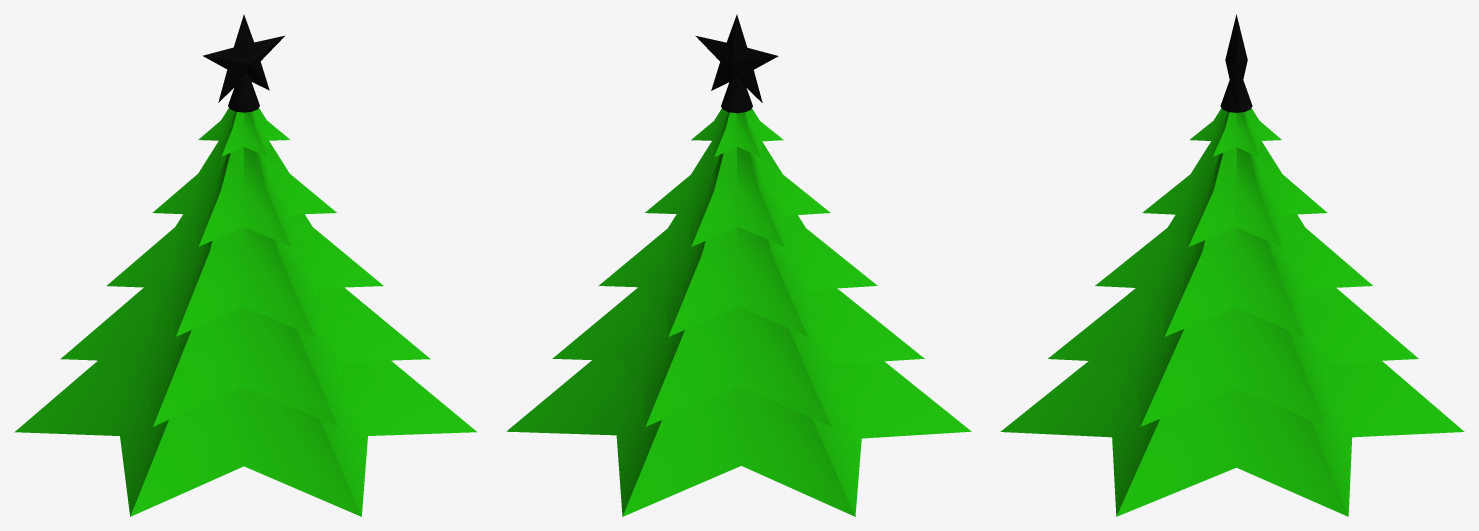
Rendered from tree.fbx.
3 views of the same model, side by side, from view 1: azimuth 30°, elevation 25°; view 2: azimuth 150°, elevation 25°; view 3: azimuth 270°, elevation 25° (orthographic).
Visible parts, largest first — view 1: Cone_0, Cone_1, Cone_2, Cone_3, Cone_4, Star, cap; view 2: Cone_0, Cone_1, Cone_2, Cone_3, Star, Cone_4, cap; view 3: Cone_0, Cone_1, Cone_2, Cone_3, Cone_4, Star, cap.
Part boxes in pixels (x1=…): Cone_0: x1=14, y1=360, x2=477, y2=516; Cone_1: x1=60, y1=287, x2=430, y2=426; Cone_2: x1=107, y1=214, x2=383, y2=336; Cone_3: x1=152, y1=141, x2=336, y2=246; Cone_4: x1=198, y1=108, x2=290, y2=156; Star: x1=202, y1=14, x2=284, y2=102; cap: x1=228, y1=73, x2=259, y2=112; Cone_0: x1=506, y1=360, x2=971, y2=516; Cone_1: x1=552, y1=287, x2=924, y2=426; Cone_2: x1=599, y1=214, x2=877, y2=336; Cone_3: x1=645, y1=141, x2=830, y2=246; Star: x1=695, y1=14, x2=778, y2=102; Cone_4: x1=691, y1=108, x2=783, y2=156; cap: x1=721, y1=73, x2=752, y2=113; Cone_0: x1=1000, y1=360, x2=1464, y2=516; Cone_1: x1=1048, y1=288, x2=1418, y2=426; Cone_2: x1=1095, y1=214, x2=1372, y2=336; Cone_3: x1=1142, y1=141, x2=1327, y2=246; Cone_4: x1=1190, y1=108, x2=1281, y2=156; Star: x1=1225, y1=14, x2=1247, y2=109; cap: x1=1220, y1=80, x2=1252, y2=112.
Bounding box in the file's own units: 250 × 286 × 288.
